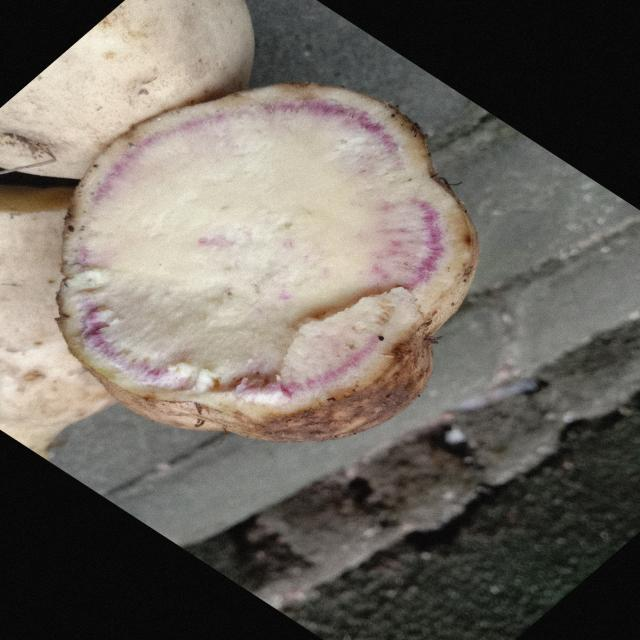Healthy Sweet Potato: (58, 82, 478, 441)
